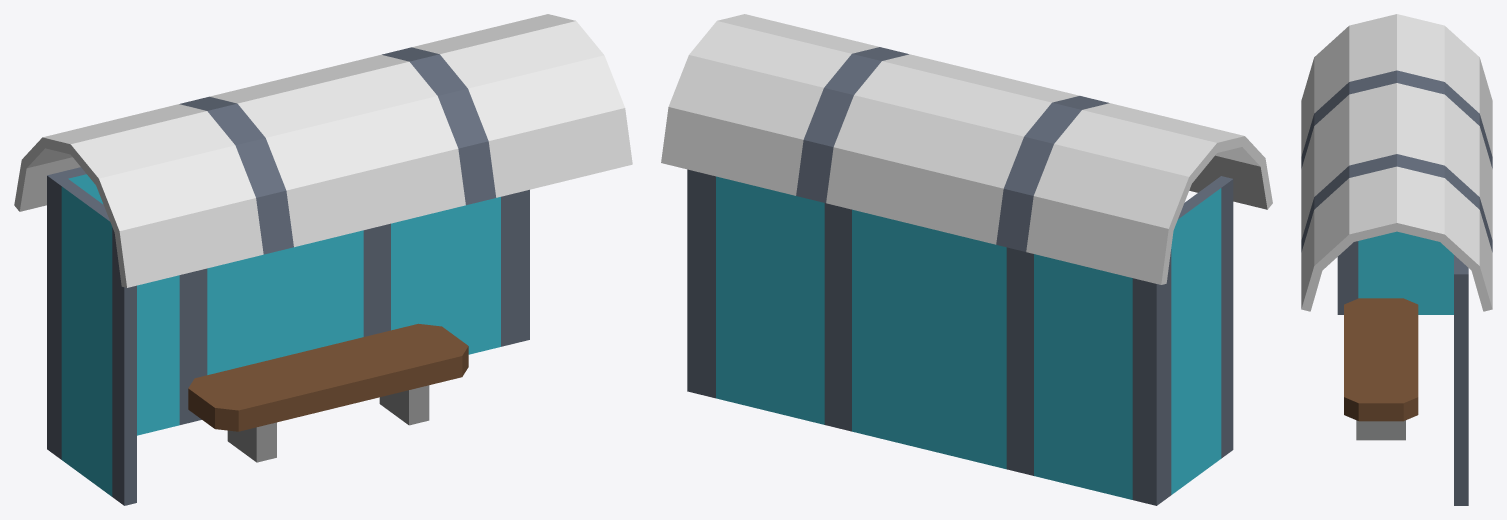
File: Bus Stop 1.fbx
The picture shows the model from 3 angles, left to right: view 1: azimuth 30°, elevation 25°; view 2: azimuth 150°, elevation 25°; view 3: azimuth 270°, elevation 25°; orthographic projection. The views are drawn at different scales.
Visible parts, largest first — view 1: Bus_Stop_01; view 2: Bus_Stop_01; view 3: Bus_Stop_01.
Boxes of the visible parts, x1,y1,x2,y2 form: Bus_Stop_01: (14,14,632,505); Bus_Stop_01: (661,14,1272,505); Bus_Stop_01: (1301,14,1492,505).
Bounding box in the file's own units: 199 × 128 × 77.08.
